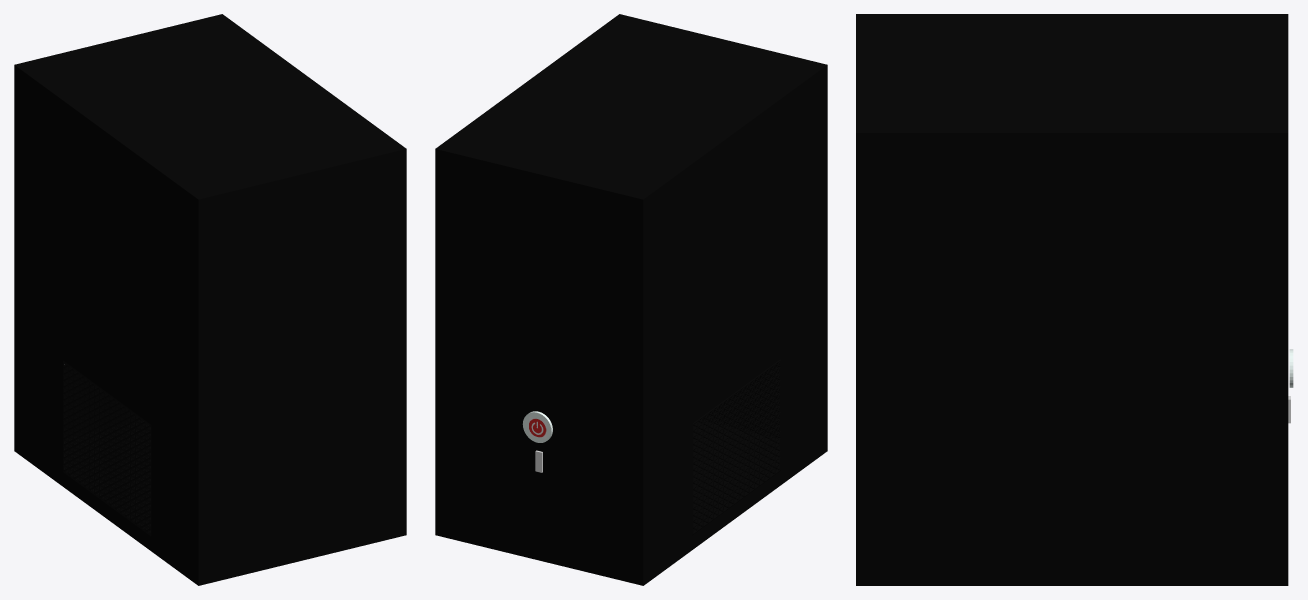
Rendered from cpu.fbx.
The picture shows the model from 3 angles, left to right: view 1: azimuth 30°, elevation 25°; view 2: azimuth 150°, elevation 25°; view 3: azimuth 270°, elevation 25°; orthographic projection. The views are drawn at different scales.
Parts seen in each view (by area): view 1: Cube, Cube.010; view 2: Cube, Cube.002, Cube.003, Cube.001, Cube.010, Cube.005, Cube.006; view 3: Cube, Cube.007.
Boxes of the visible parts, left/top/right/bottom form: Cube: left=14, top=14, right=406, bottom=585; Cube.010: left=63, top=360, right=151, bottom=535; Cube: left=435, top=14, right=827, bottom=585; Cube.002: left=446, top=167, right=631, bottom=564; Cube.003: left=480, top=313, right=597, bottom=499; Cube.001: left=435, top=149, right=643, bottom=585; Cube.010: left=692, top=359, right=780, bottom=534; Cube.005: left=446, top=471, right=630, bottom=564; Cube.006: left=457, top=489, right=619, bottom=544; Cube: left=856, top=14, right=1288, bottom=585; Cube.007: left=967, top=438, right=1172, bottom=567.
Size of the model in its own units: 203 by 360 by 315.
4 materials, 1 textured.
